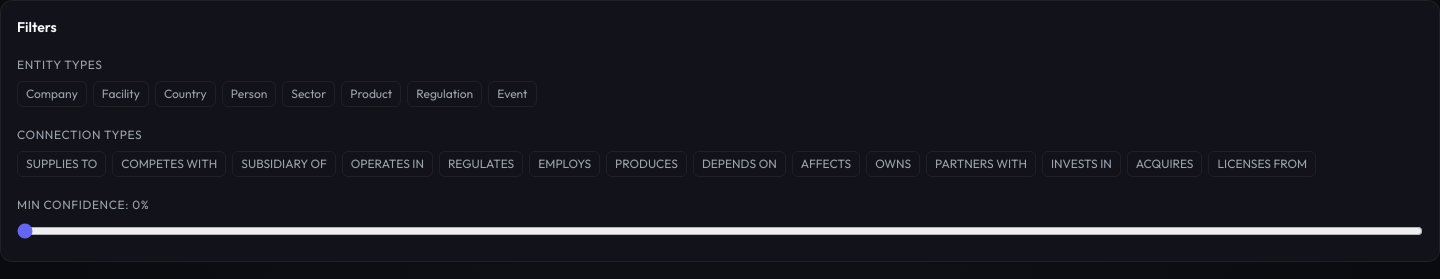
Test: FilterPanel › shows reset button when filters are active
This screenshot has width=1440, height=279.
Expected: the text "Reset" is not shown
// Add a filter
Click the button "Company": [52, 94] box [17,81,87,107]
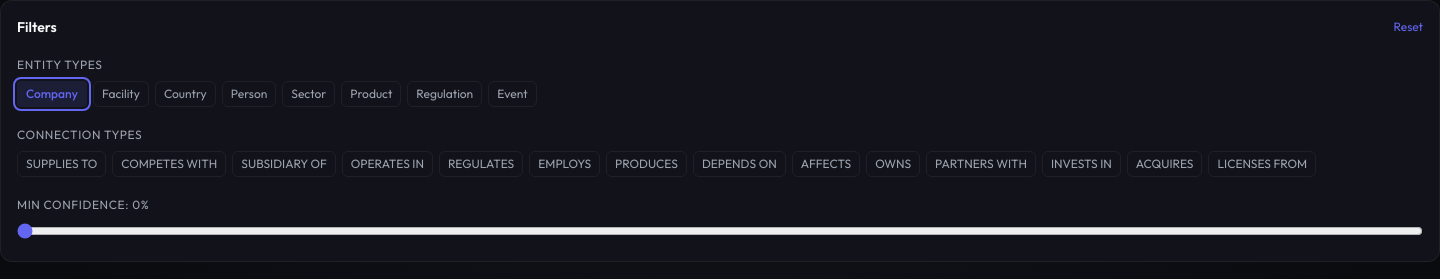
Now the button "Reset" is shown, box [1394,19,1423,35]
